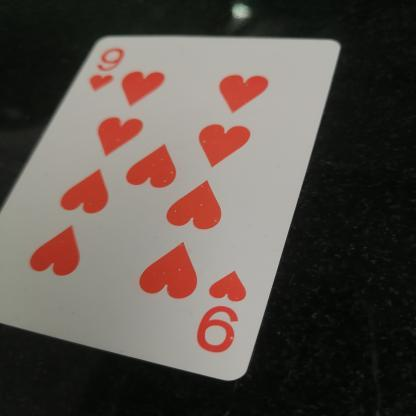9H: (197, 261, 259, 365), (80, 44, 140, 98)
